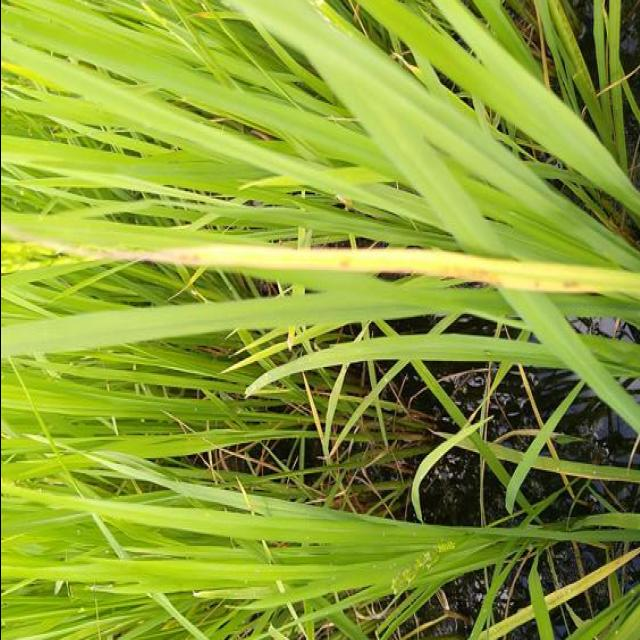Leaf Blight: (0, 220, 640, 304)
